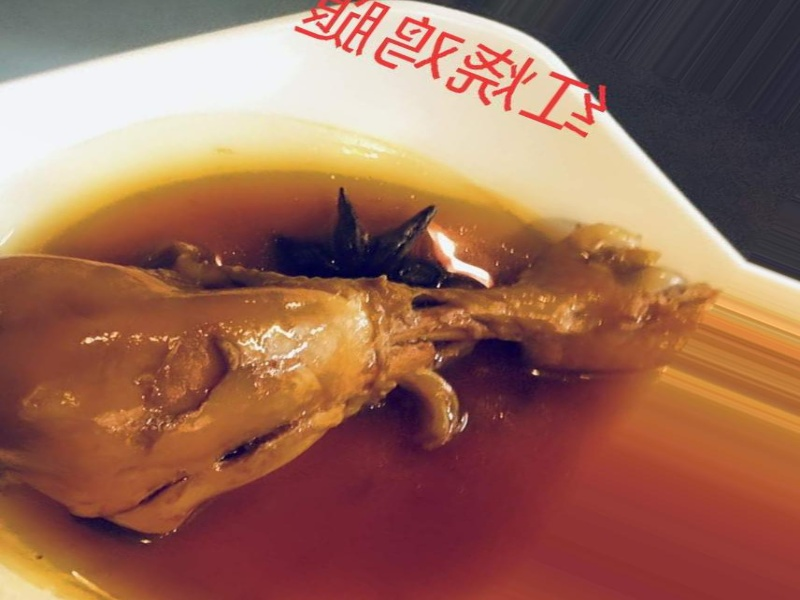chicken: (2, 178, 721, 540)
